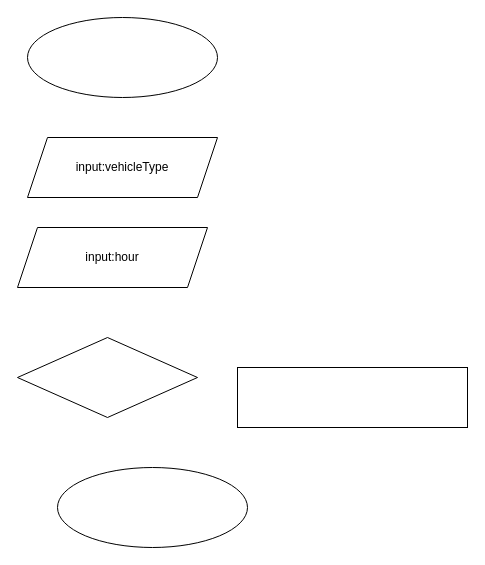
The diagram is 485 pixels wide and 565 high, and some of its shapes have lost their labels. The shapes that lost their labels are listed below. From the top down, each one's box as (x1, y1, x2, y2) in pixels, then its label:
(16, 336, 198, 418): vehicleType is "Private Car"
(236, 366, 468, 428): parkingFee=hour*15
